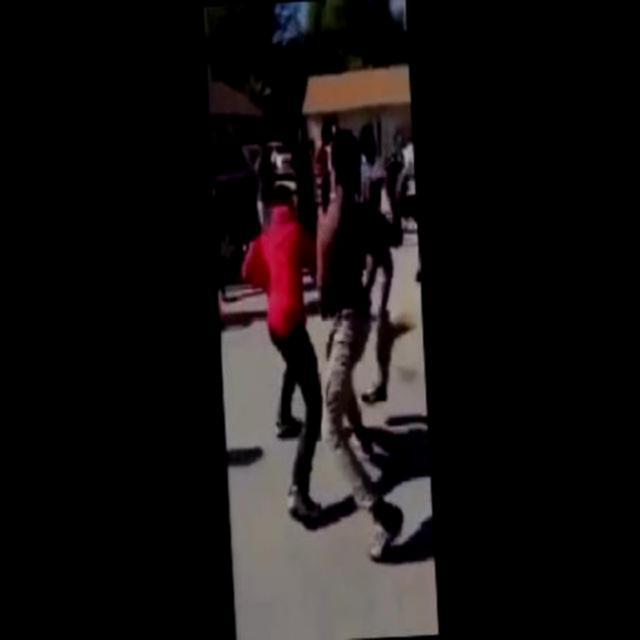fight: (235, 126, 410, 548)
